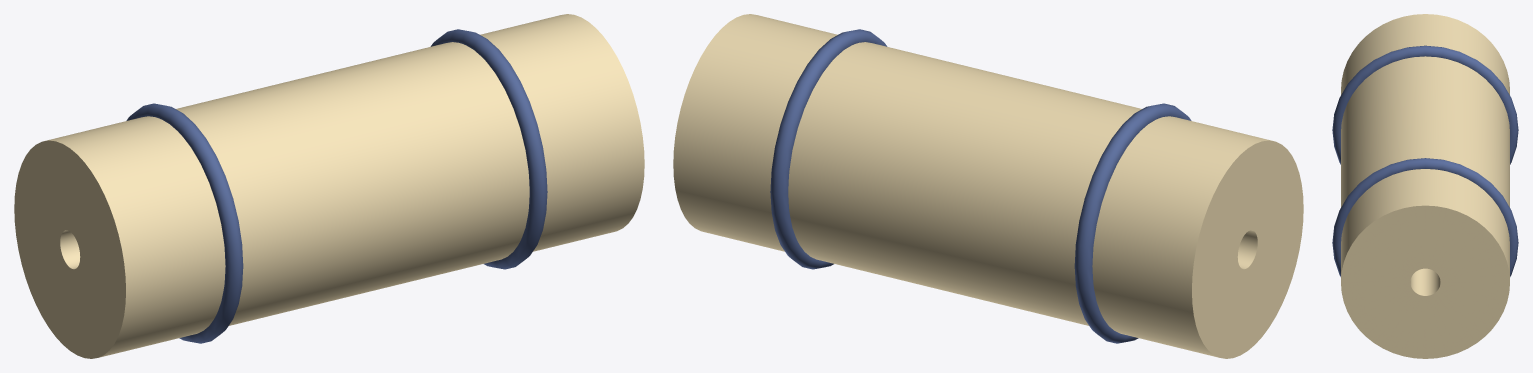
The model's file is desert-caravanserai-and-bazaar-rolled-sleeping-mat-16d98702__30459.glb.
3 views of the same model, side by side, from view 1: azimuth 30°, elevation 25°; view 2: azimuth 150°, elevation 25°; view 3: azimuth 270°, elevation 25° (orthographic). The views are drawn at different scales.
Parts seen in each view (by area): view 1: rolled-sleeping-mat; view 2: rolled-sleeping-mat; view 3: rolled-sleeping-mat.
Part boxes in pixels (<box>): rolled-sleeping-mat: <box>14,14,644,358</box>; rolled-sleeping-mat: <box>673,14,1303,358</box>; rolled-sleeping-mat: <box>1332,14,1518,358</box>.
Size of the model in its own units: 0.75 by 0.308 by 0.308.
